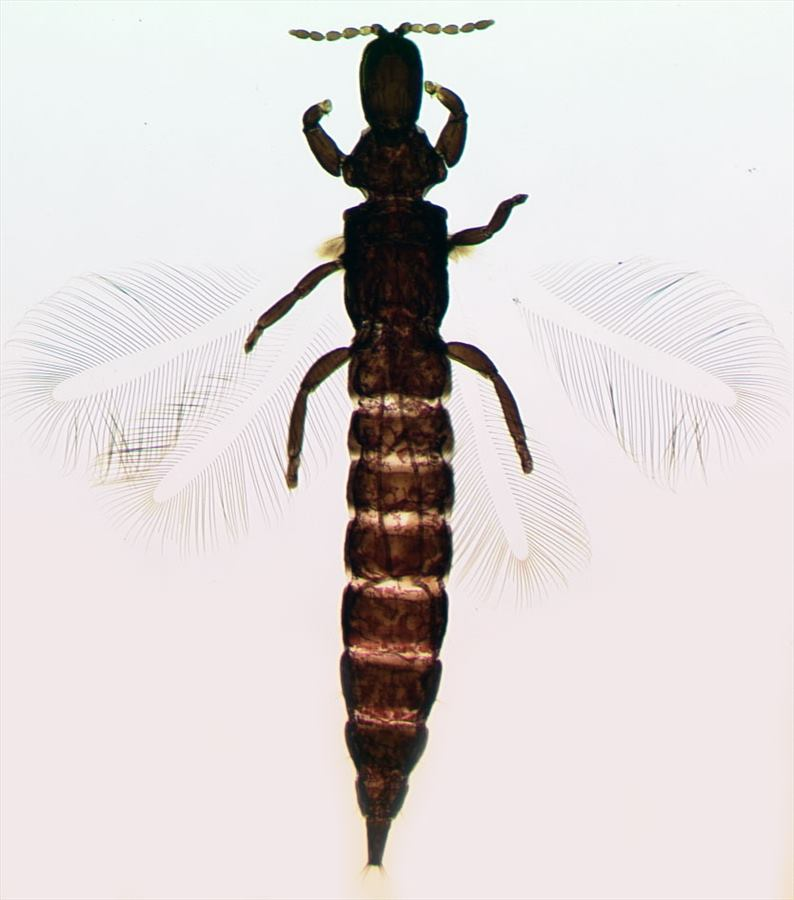Phlaeothripidae: (1, 1, 785, 897)
